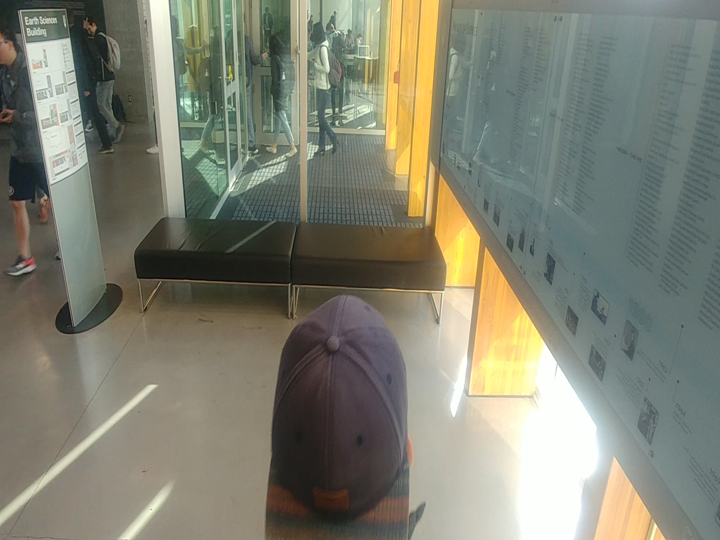face: (262, 30, 288, 59), (308, 20, 332, 45), (80, 12, 101, 39)
human: (79, 14, 127, 144), (306, 21, 344, 161), (261, 29, 301, 161)
